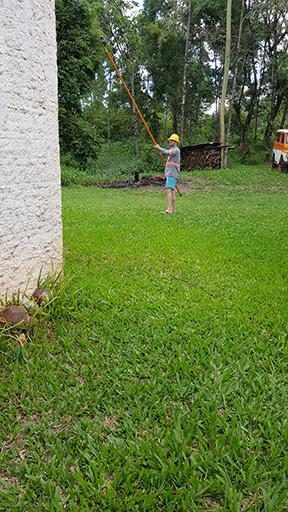Vara_Manobra: (101, 46, 182, 195)
